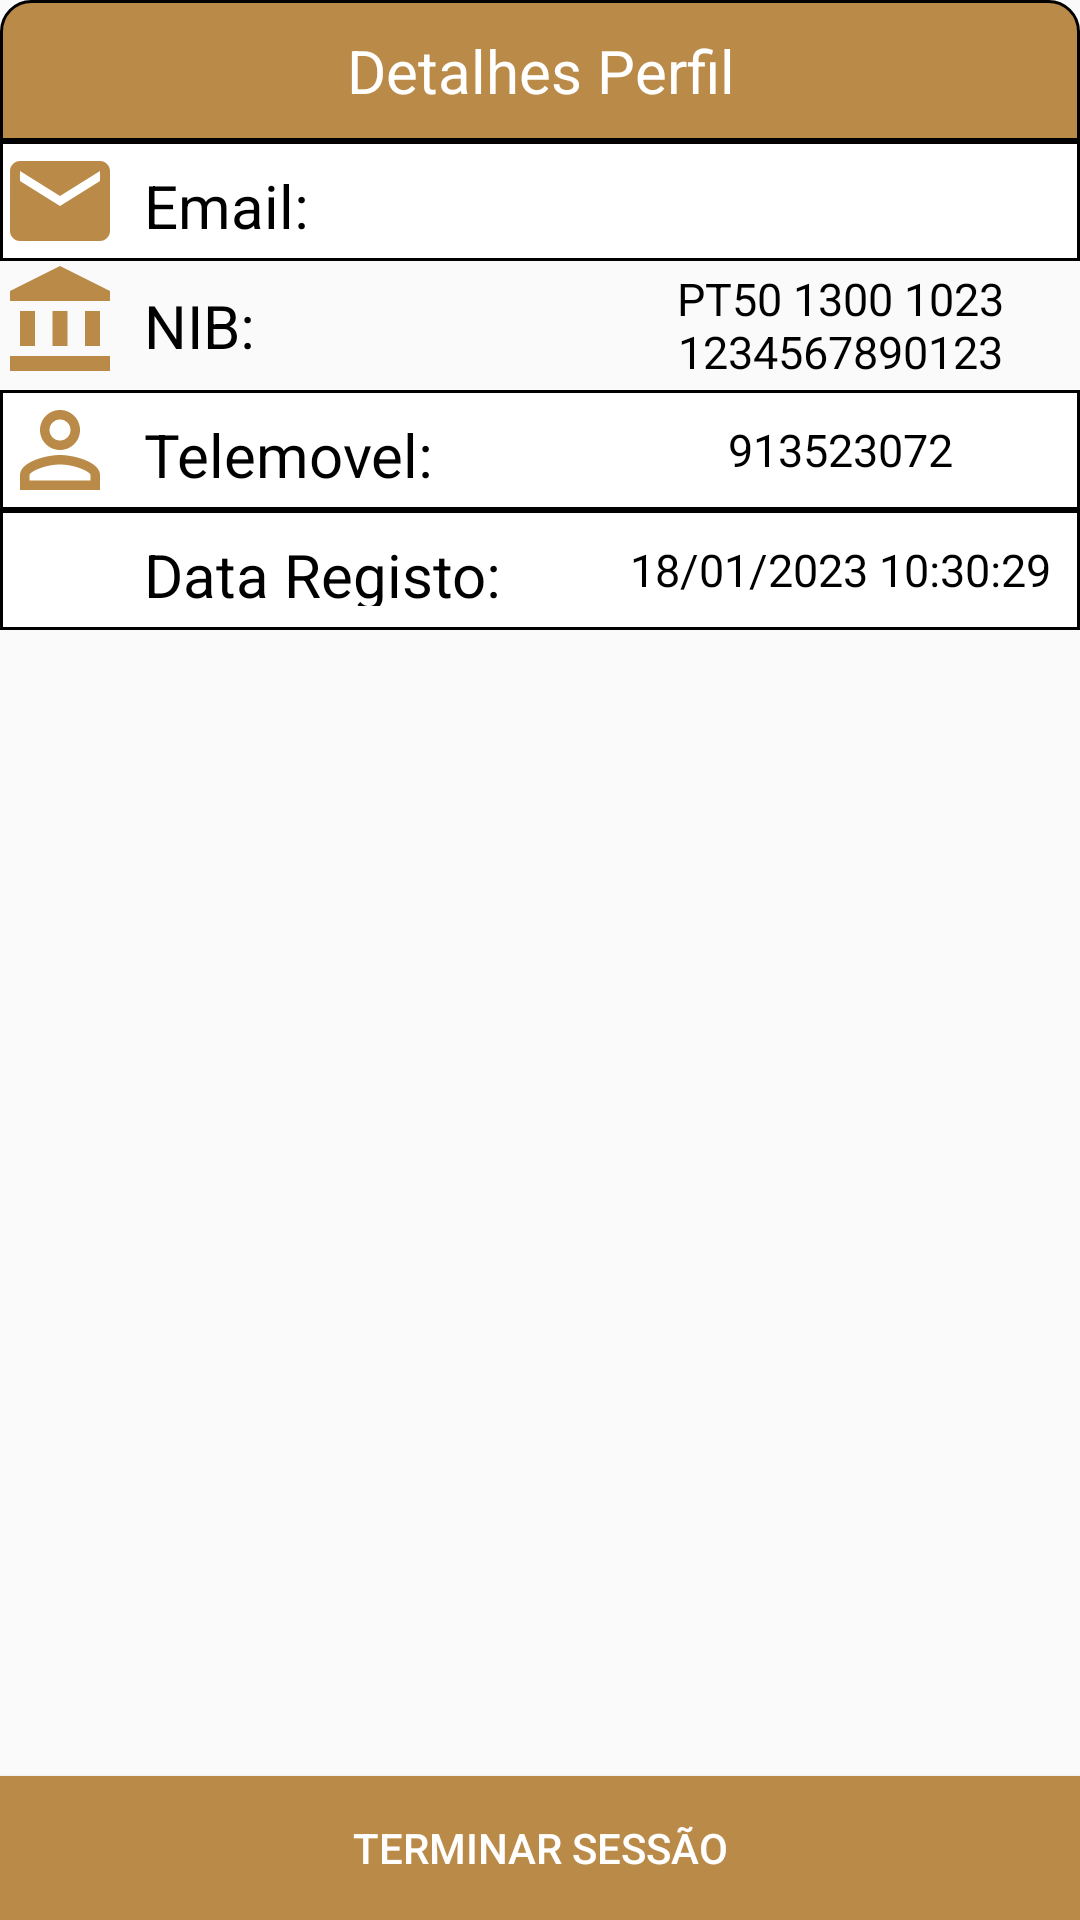

Named icons in this screenshot (1080px x 1920px) and their centers, point (x, y):
balance perfil: point (60, 318)
